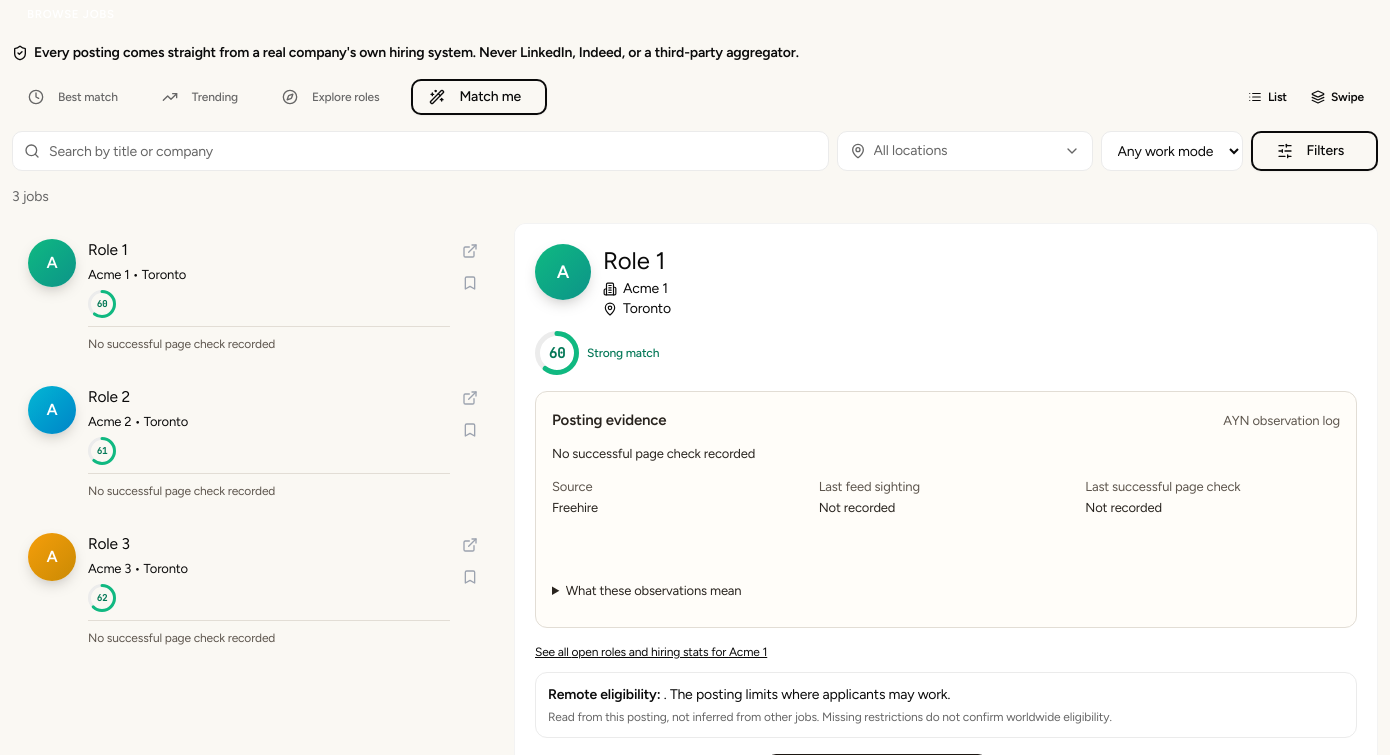
Test case: BrowseJobs list (real component, mocked backend) › bookmark saves the right job then unsaves it, without changing the selection
The image size is (1390, 755).
Later steps or results of the test are not shown.
Step 1. Click the 2nd button named "Save job" → (470, 430), box [458,418,482,442]
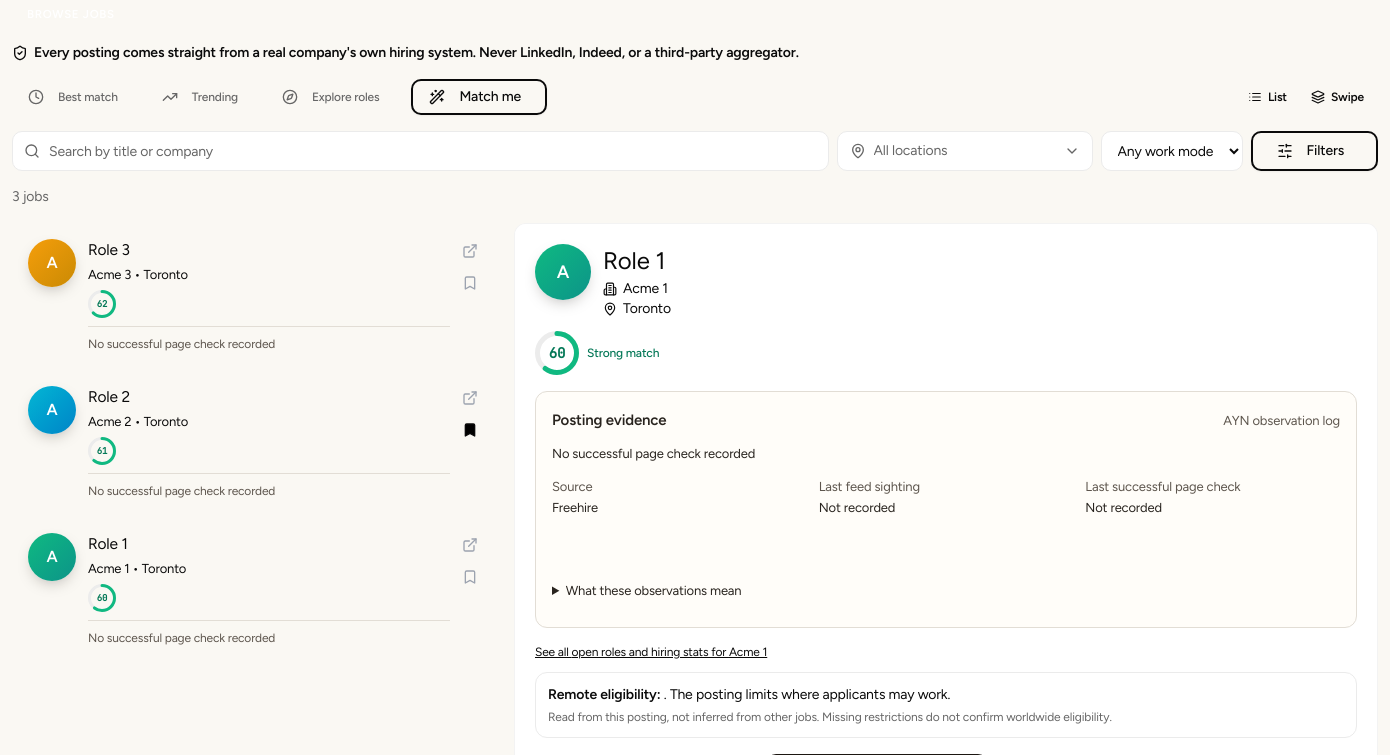
Expected: the number of buttons named "Remove from saved" is 1, [458,418,482,442]
Now the button named "Remove from saved" is shown, box [458,418,482,442]
